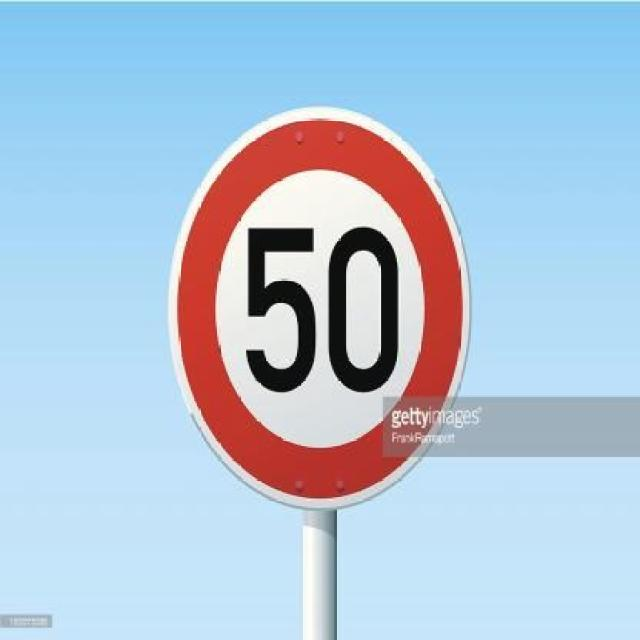forb_speed_over_50: (169, 107, 468, 508)
